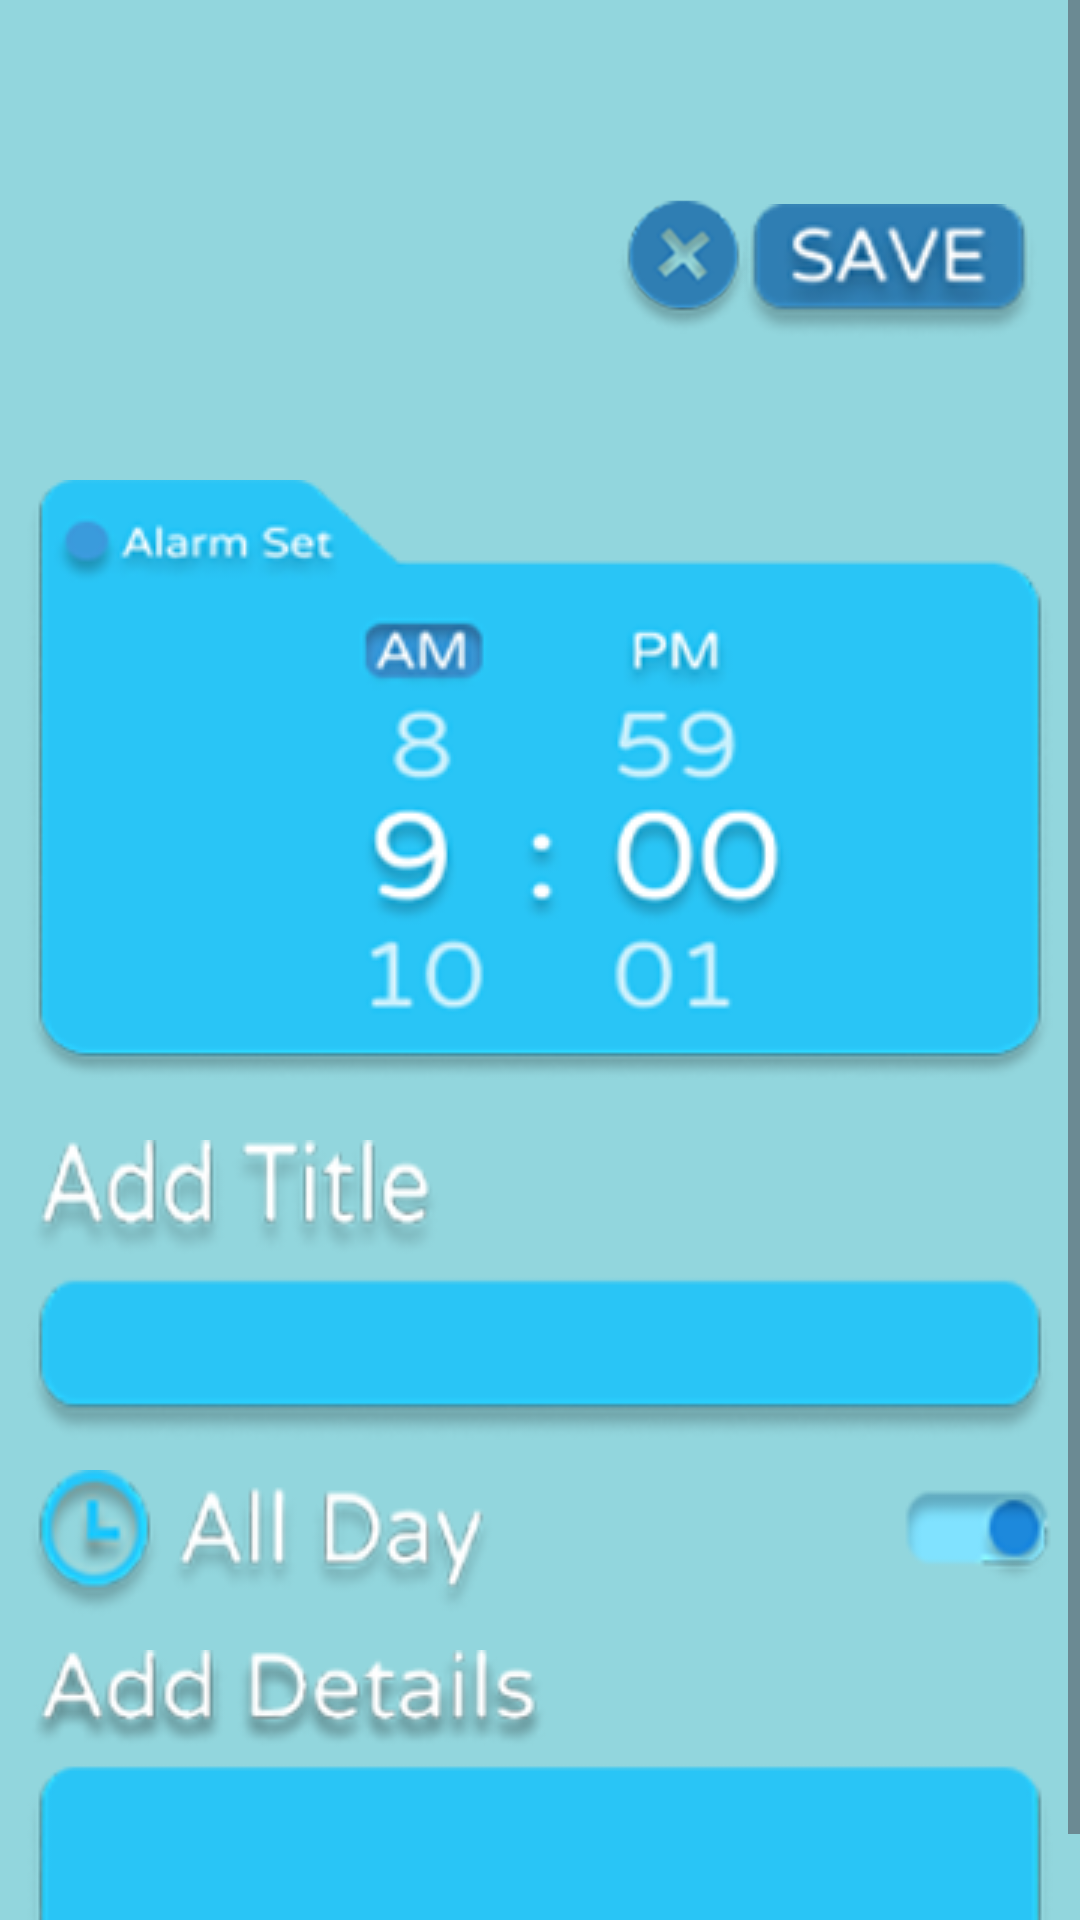

Point at icon controls on the screen. Image size 1080×1920, points as point (x, y).
alarmexit: point (683, 260)
